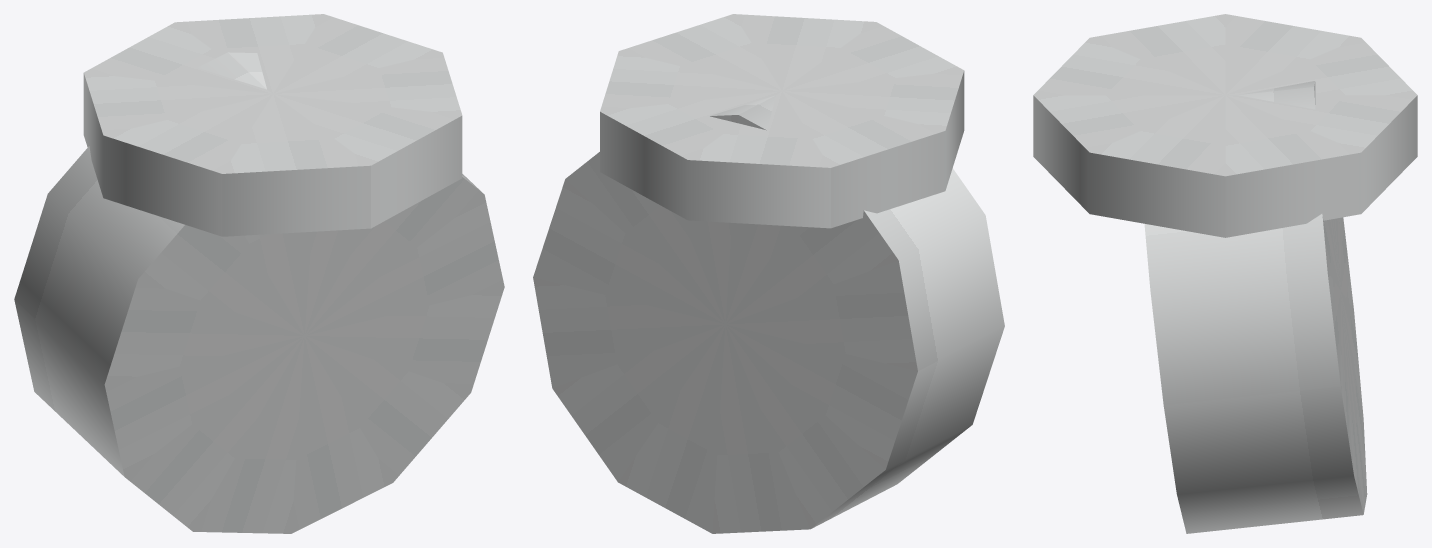
The model's file is trusssignalarm_stub_48.obj.
3 renders of one model, left to right at view 1: azimuth 30°, elevation 25°; view 2: azimuth 150°, elevation 25°; view 3: azimuth 270°, elevation 25°, orthographic. The views are drawn at different scales.
Parts seen in each view (by area): view 1: trusssignalarm_stub_48; view 2: trusssignalarm_stub_48; view 3: trusssignalarm_stub_48.
Part boxes in pixels (x1,y1,x2,y2): trusssignalarm_stub_48: (14, 14, 504, 533); trusssignalarm_stub_48: (533, 14, 1004, 533); trusssignalarm_stub_48: (1033, 14, 1417, 533).
Bounding box in the file's own units: 0.4125 × 0.4287 × 0.35.
